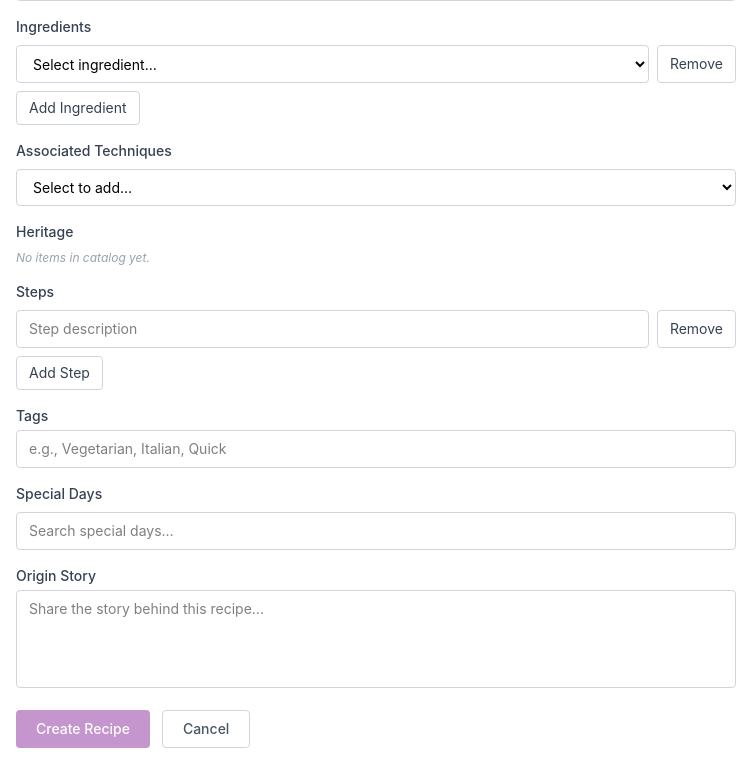
Test: RecipeFormPage — create mode › adds a step input when "Add Step" is clicked
(page scrolled)
Click the button "Add Step": {"x": 59, "y": 373} [16,356,103,390]
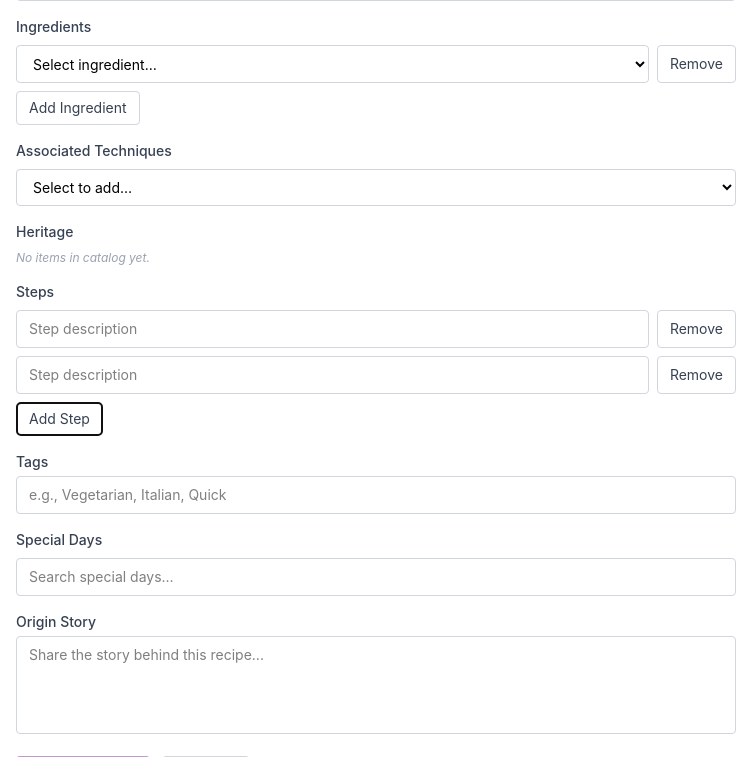
Expected: the number of fields with placeholder "Step description" is 2, [16,310,649,348]; [16,356,649,394]
